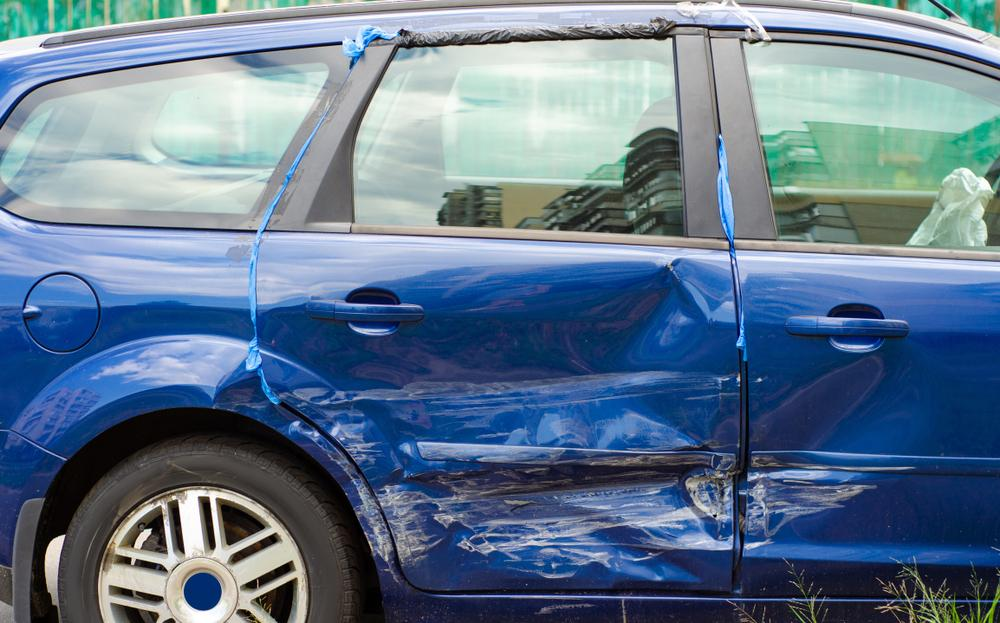dent: (259, 260, 737, 589), (746, 355, 924, 555), (212, 367, 307, 437)
